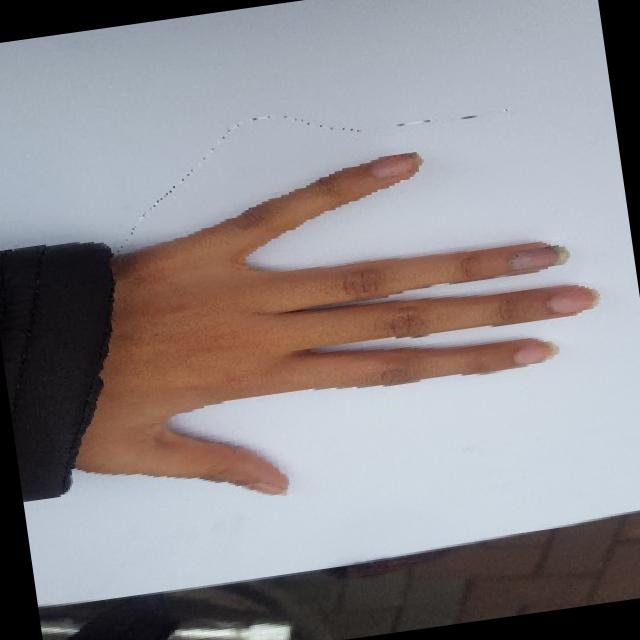Nail: (547, 286, 598, 314), (508, 245, 568, 268), (369, 153, 420, 177), (512, 342, 555, 365), (246, 481, 285, 494)
